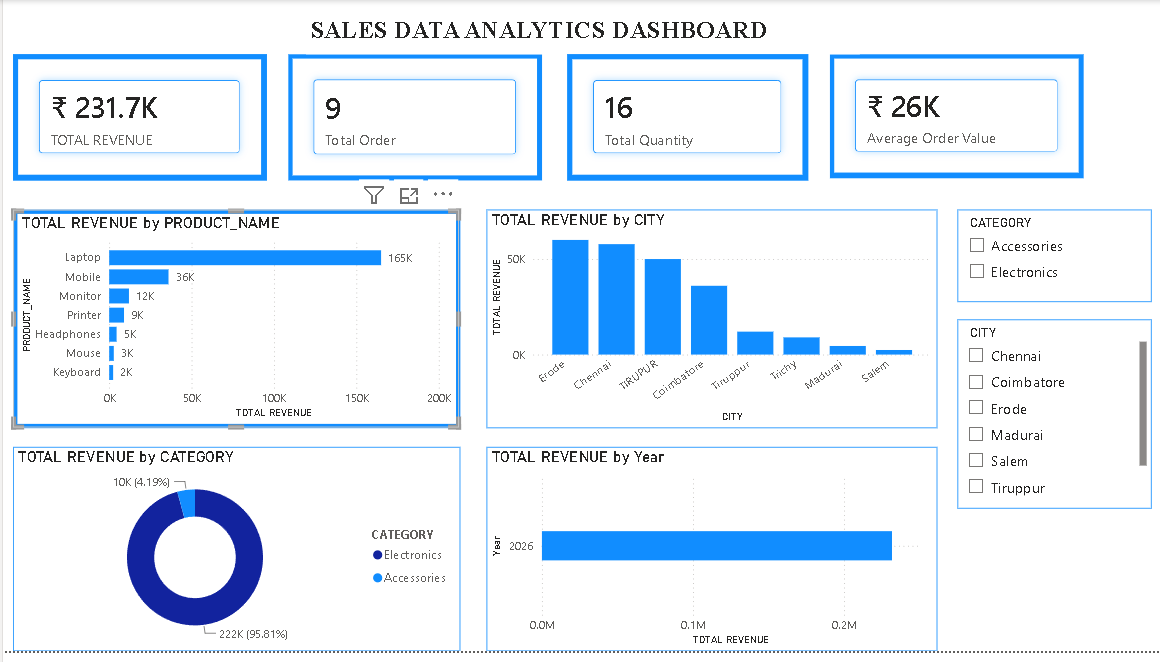

The dashboard page shown, as its layout file describes it:
{"tool":"powerbi","page":{"name":"Page 1","canvas":[1280,720],"ordinal":0},"visuals":[{"type":"cardVisual","fields":{"Data":["SALES_DATA.total revenue"]},"box":[11.2,60,280.4,139.5],"z":0},{"type":"cardVisual","fields":{"Data":["SALES_DATA.Total Order"]},"box":[611.1,60,280.4,139.5],"z":1000},{"type":"cardVisual","fields":{"Data":["SALES_DATA.TOTAL REVENUE"]},"box":[309.7,60,280.4,142.3],"z":2000},{"type":"cardVisual","fields":{"Data":["SALES_DATA.Average Order Value"]},"box":[887.4,60,280.4,136.7],"z":3000},{"type":"clusteredBarChart","fields":{"Category":["SALES_DATA.ORDER_DATE.Variation.Date Hierarchy.Year","SALES_DATA.ORDER_DATE.Variation.Date Hierarchy.Quarter","SALES_DATA.ORDER_DATE.Variation.Date Hierarchy.Month","SALES_DATA.ORDER_DATE.Variation.Date Hierarchy.Day"],"Y":["SALES_DATA.total revenue"]},"box":[482.7,473,464.6,247],"z":3001},{"type":"clusteredBarChart","fields":{"Category":["SALES_DATA.PRODUCT_NAME"],"Y":["SALES_DATA.total revenue"]},"box":[11.2,231.6,493.9,241.4],"z":3002},{"type":"pieChart","fields":{"Category":["SALES_DATA.CATEGORY"],"Y":["SALES_DATA.total revenue"]},"box":[0,509.3,389.3,210.7],"z":3003},{"type":"columnChart","fields":{"Category":["SALES_DATA.CITY"],"Y":["SALES_DATA.total revenue"]},"box":[534.4,231.6,498.1,241.4],"z":3004},{"type":"slicer","fields":{"Values":["SALES_DATA.CATEGORY"]},"box":[1054.8,231.6,224.6,101.9],"z":3005},{"type":"slicer","fields":{"Values":["SALES_DATA.CITY"]},"box":[1054.8,333.5,214.9,209.3],"z":3006},{"type":"textbox","box":[334.4,12.6,611.1,47.4],"z":3008}]}

Visuals, with their boxes in screenshot pixels (x1, y1, x2, y2), scaled from the page's 1280x720 canvas onto the 1160x662 screenshot:
cardVisual - SALES_DATA.total revenue: (10,55,264,183)
cardVisual - SALES_DATA.Total Order: (554,55,808,183)
cardVisual - SALES_DATA.TOTAL REVENUE: (281,55,535,186)
cardVisual - SALES_DATA.Average Order Value: (804,55,1058,181)
clusteredBarChart - SALES_DATA.ORDER_DATE.Variation.Date Hierarchy.Year x SALES_DATA.ORDER_DATE.Variation.Date Hierarchy.Quarter: (437,435,858,661)
clusteredBarChart - SALES_DATA.PRODUCT_NAME x SALES_DATA.total revenue: (10,213,458,435)
pieChart - SALES_DATA.CATEGORY x SALES_DATA.total revenue: (0,468,353,661)
columnChart - SALES_DATA.CITY x SALES_DATA.total revenue: (484,213,936,435)
slicer - SALES_DATA.CATEGORY: (956,213,1159,307)
slicer - SALES_DATA.CITY: (956,307,1151,499)
textbox: (303,12,857,55)
